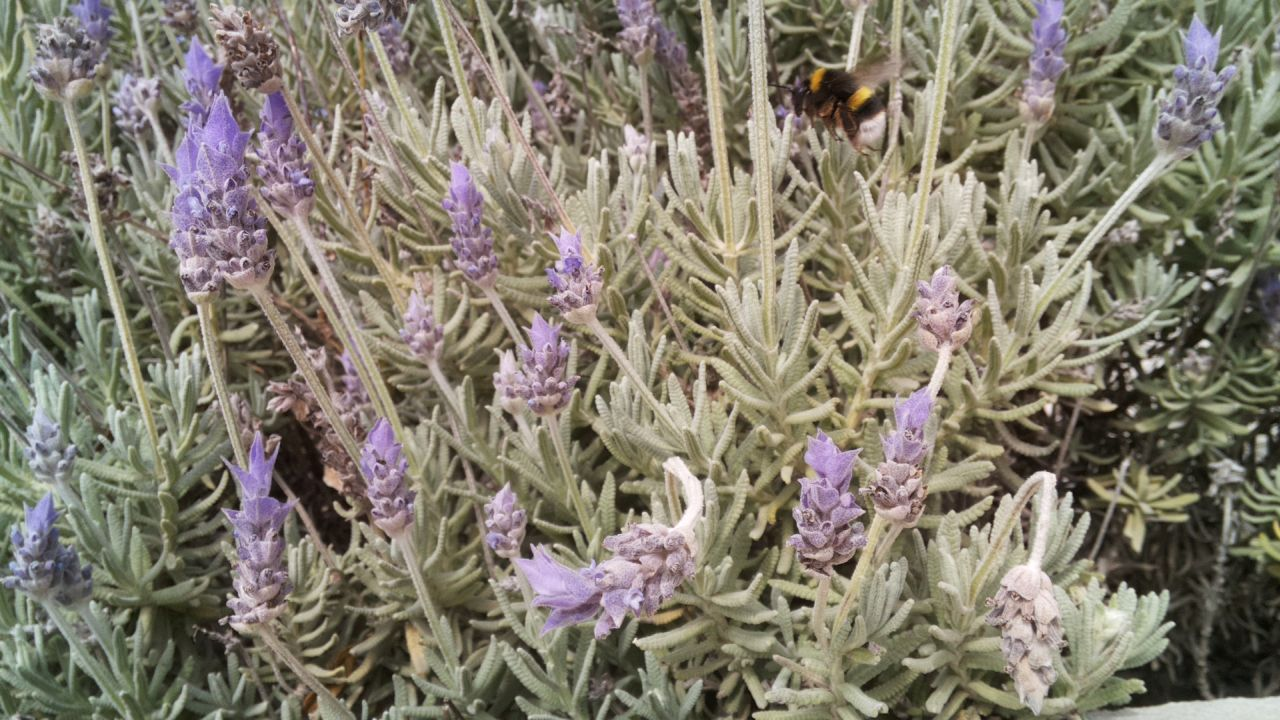Bombus terrestris: (780, 48, 906, 166)
